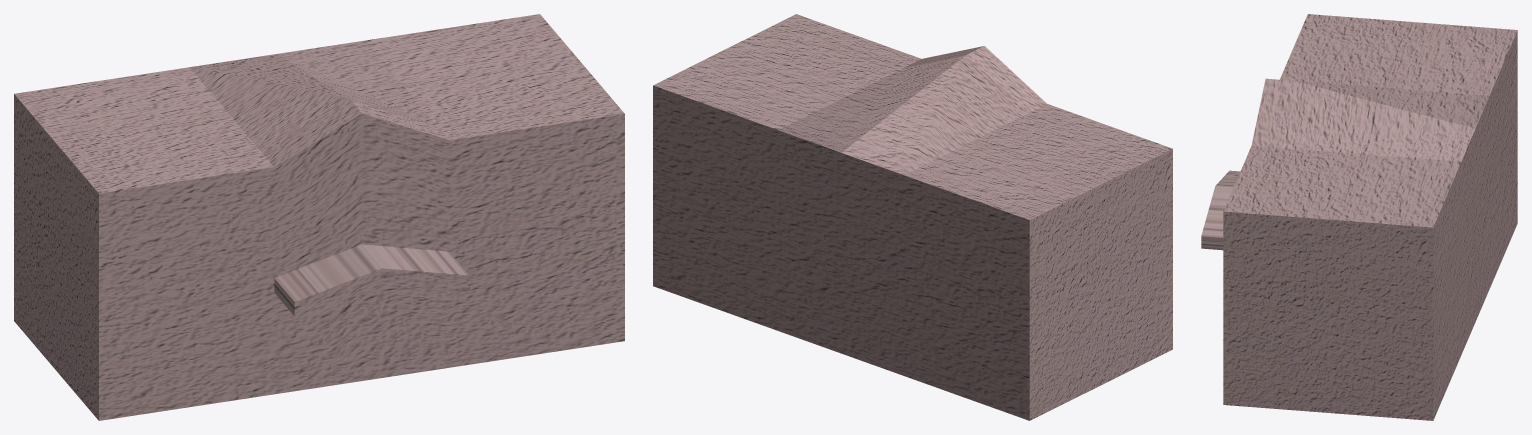
Rendered from CCR-OLD.gltf.
The picture shows the model from 3 angles, left to right: view 1: azimuth 30°, elevation 25°; view 2: azimuth 150°, elevation 25°; view 3: azimuth 270°, elevation 25°; orthographic projection. The views are drawn at different scales.
Parts seen in each view (by area): view 1: CCR; view 2: CCR; view 3: CCR.
Part boxes in pixels (<box>): CCR: <box>14,14,624,420</box>; CCR: <box>653,14,1172,420</box>; CCR: <box>1201,14,1517,420</box>.
Size of the model in its own units: 1.36 by 0.6772 by 0.8541.
1 material, 1 textured.
